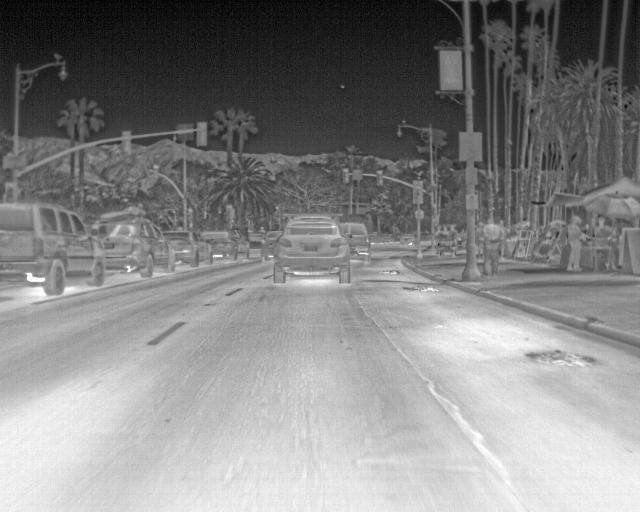bicycle: (0, 198, 108, 292), (273, 214, 354, 284), (90, 219, 175, 278), (161, 229, 214, 268), (197, 228, 251, 260), (338, 220, 369, 262), (262, 227, 286, 260)
empty: (481, 217, 502, 277), (565, 213, 586, 272)
